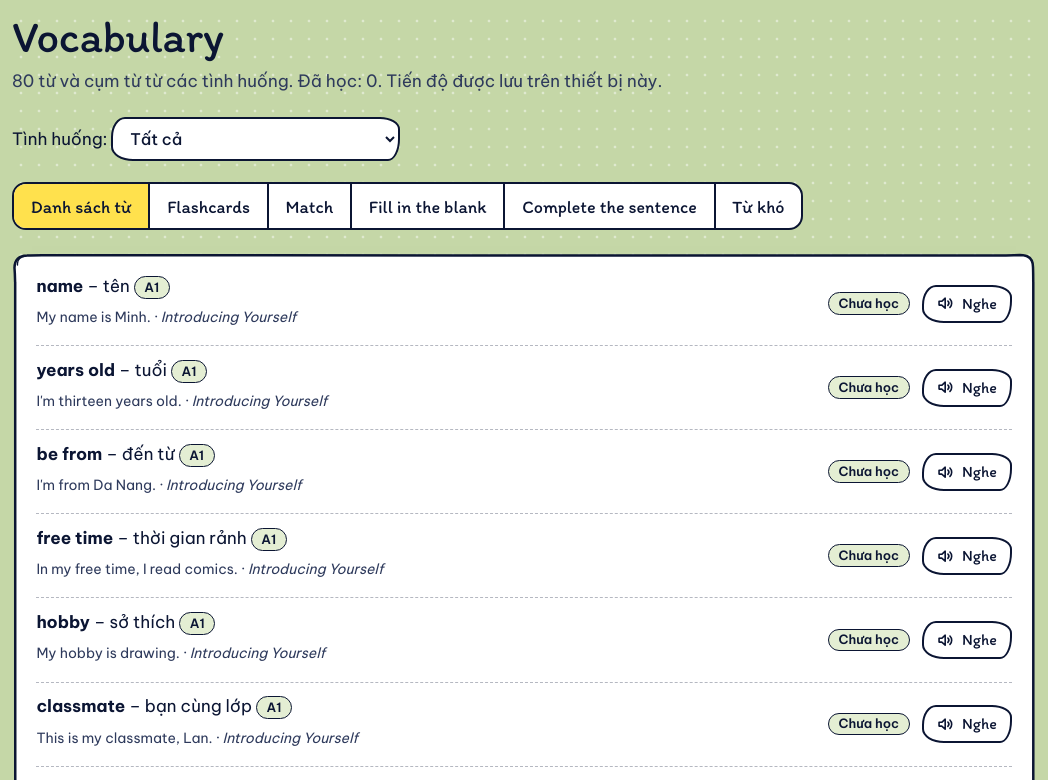
Test: Vocabulary review › flashcards update review progress
Step 1. Click the tab "Flashcards" → (207, 206), box [148, 184, 267, 228]
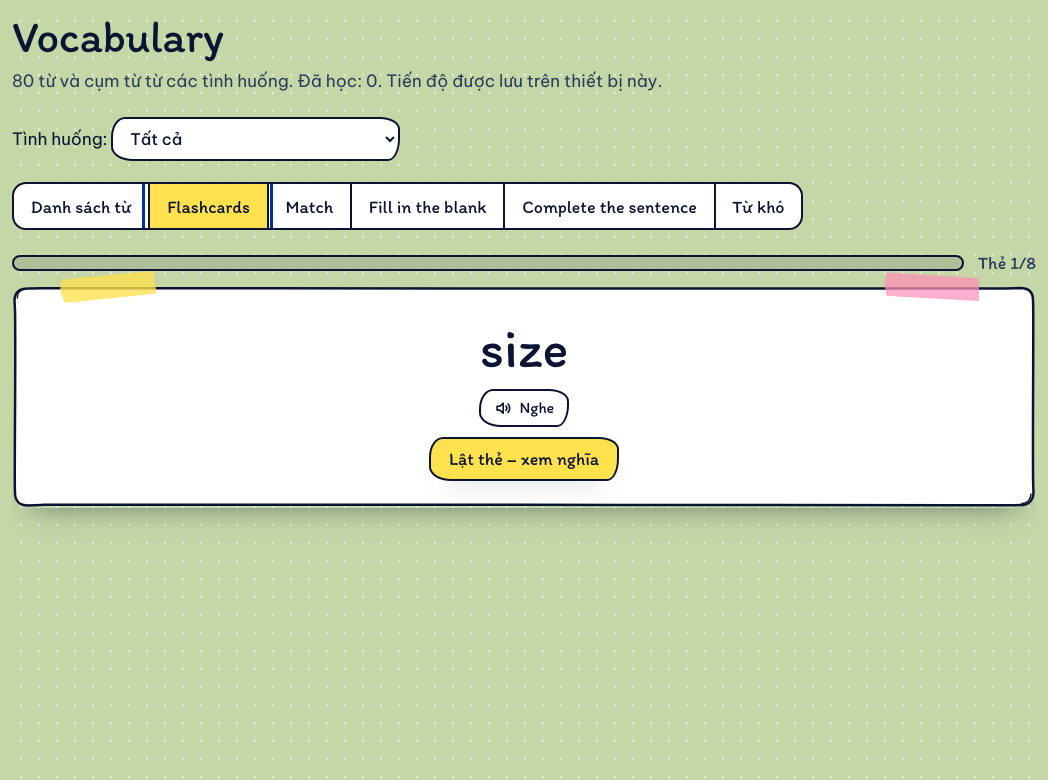
Step 2. Click the button "Lật thẻ – xem nghĩa" → (524, 458), box [429, 436, 619, 480]
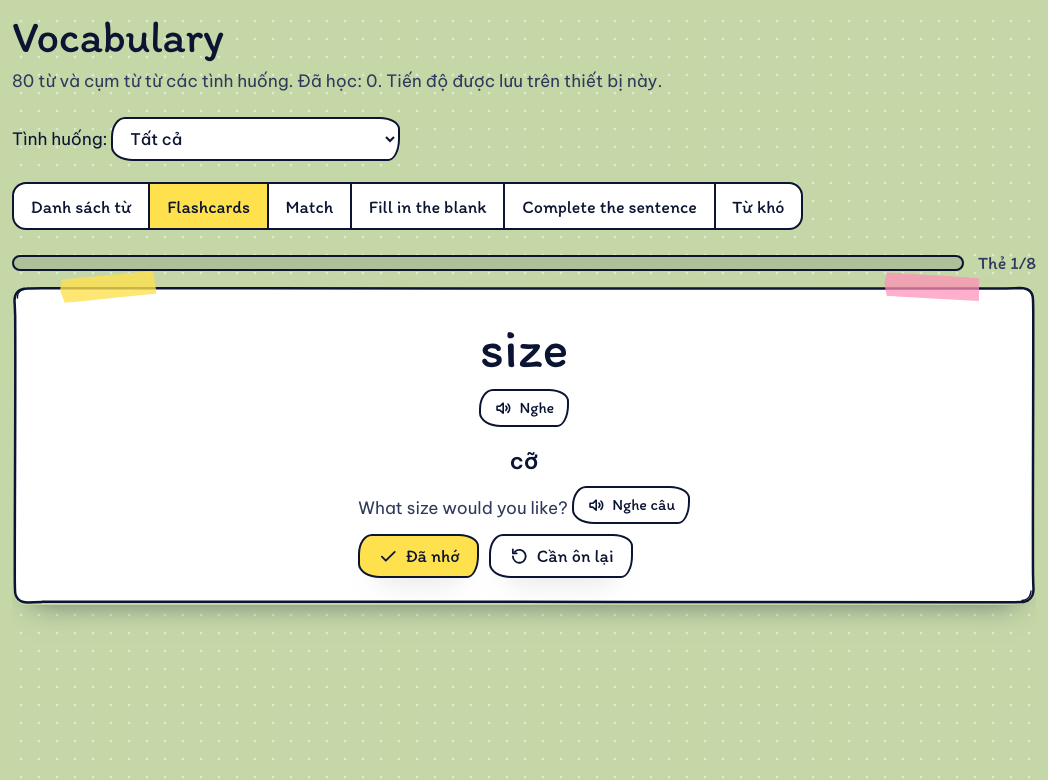
Step 3. Click the button "Cần ôn lại" → (561, 556), box [489, 534, 633, 578]
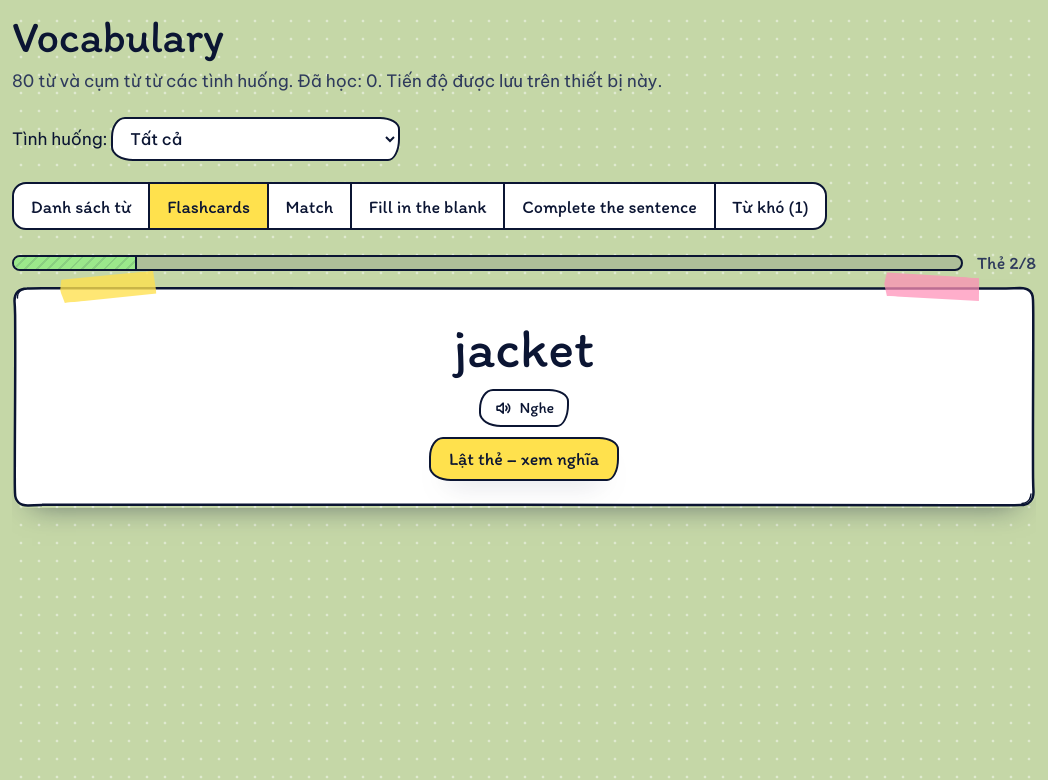
Expected: the text "Thẻ 2/8" is shown, [977, 252, 1036, 274]
Step 4. Click the tab "Từ khó (1)" → (769, 206), box [714, 184, 825, 228]
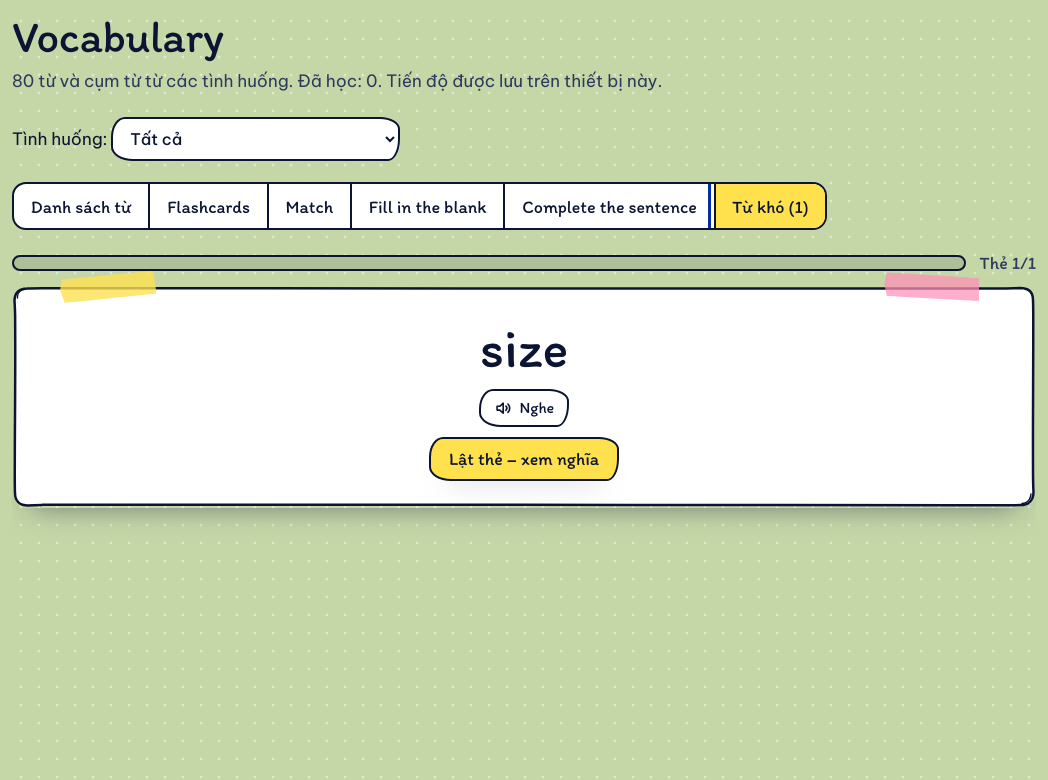
Expected: the text "Thẻ 1/1" is shown, [980, 252, 1036, 274]
